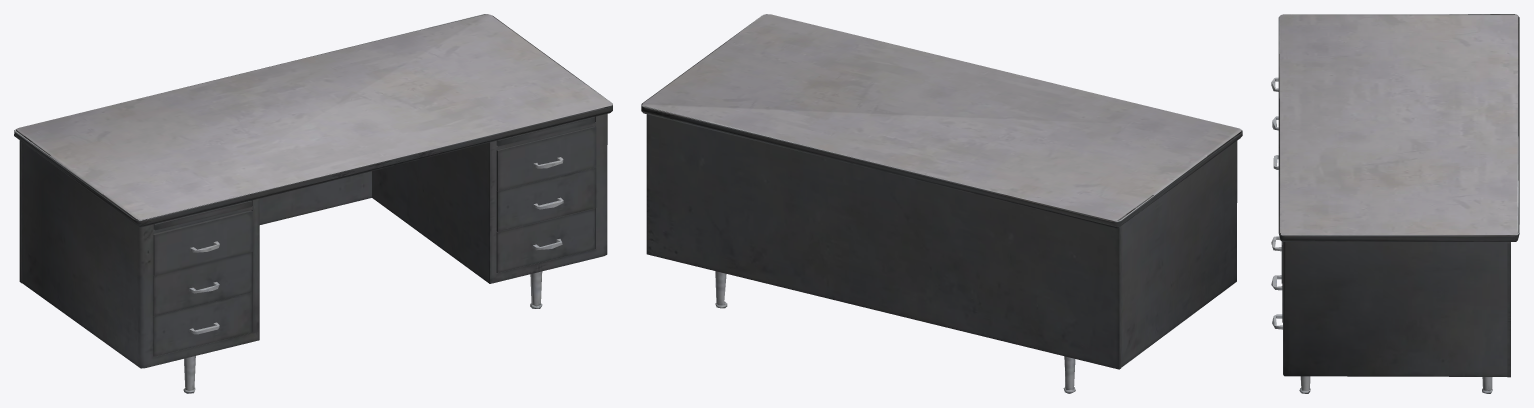
Rendered from metal_office_desk.glb.
The picture shows the model from 3 angles, left to right: view 1: azimuth 30°, elevation 25°; view 2: azimuth 150°, elevation 25°; view 3: azimuth 270°, elevation 25°; orthographic projection. The views are drawn at different scales.
Visible parts, largest first — view 1: metal_office_desk_drawer_06; view 2: metal_office_desk_drawer_06; view 3: metal_office_desk_drawer_06.
Part boxes in pixels (x1,y1,x2,y2): metal_office_desk_drawer_06: (14,14,612,393); metal_office_desk_drawer_06: (641,14,1242,393); metal_office_desk_drawer_06: (1271,14,1519,393).
Bounding box in the file's own units: 2 × 0.7867 × 0.9454.
Materials: 1 (1 with a texture image).
